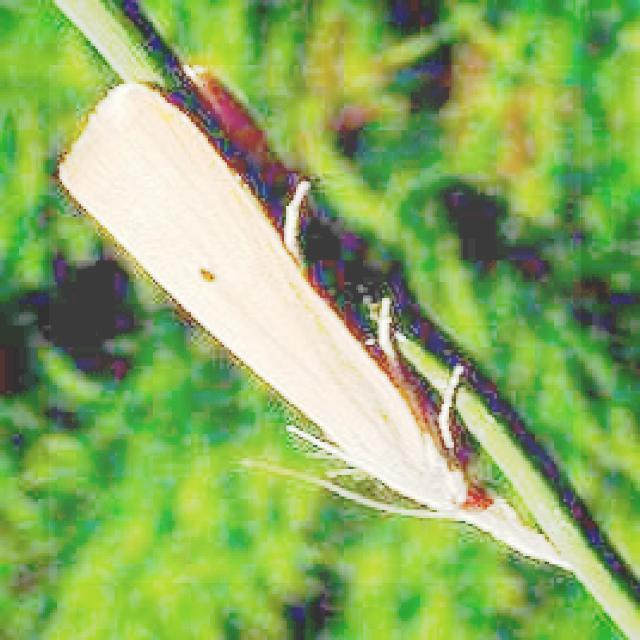stem-borer: (50, 65, 581, 583)
